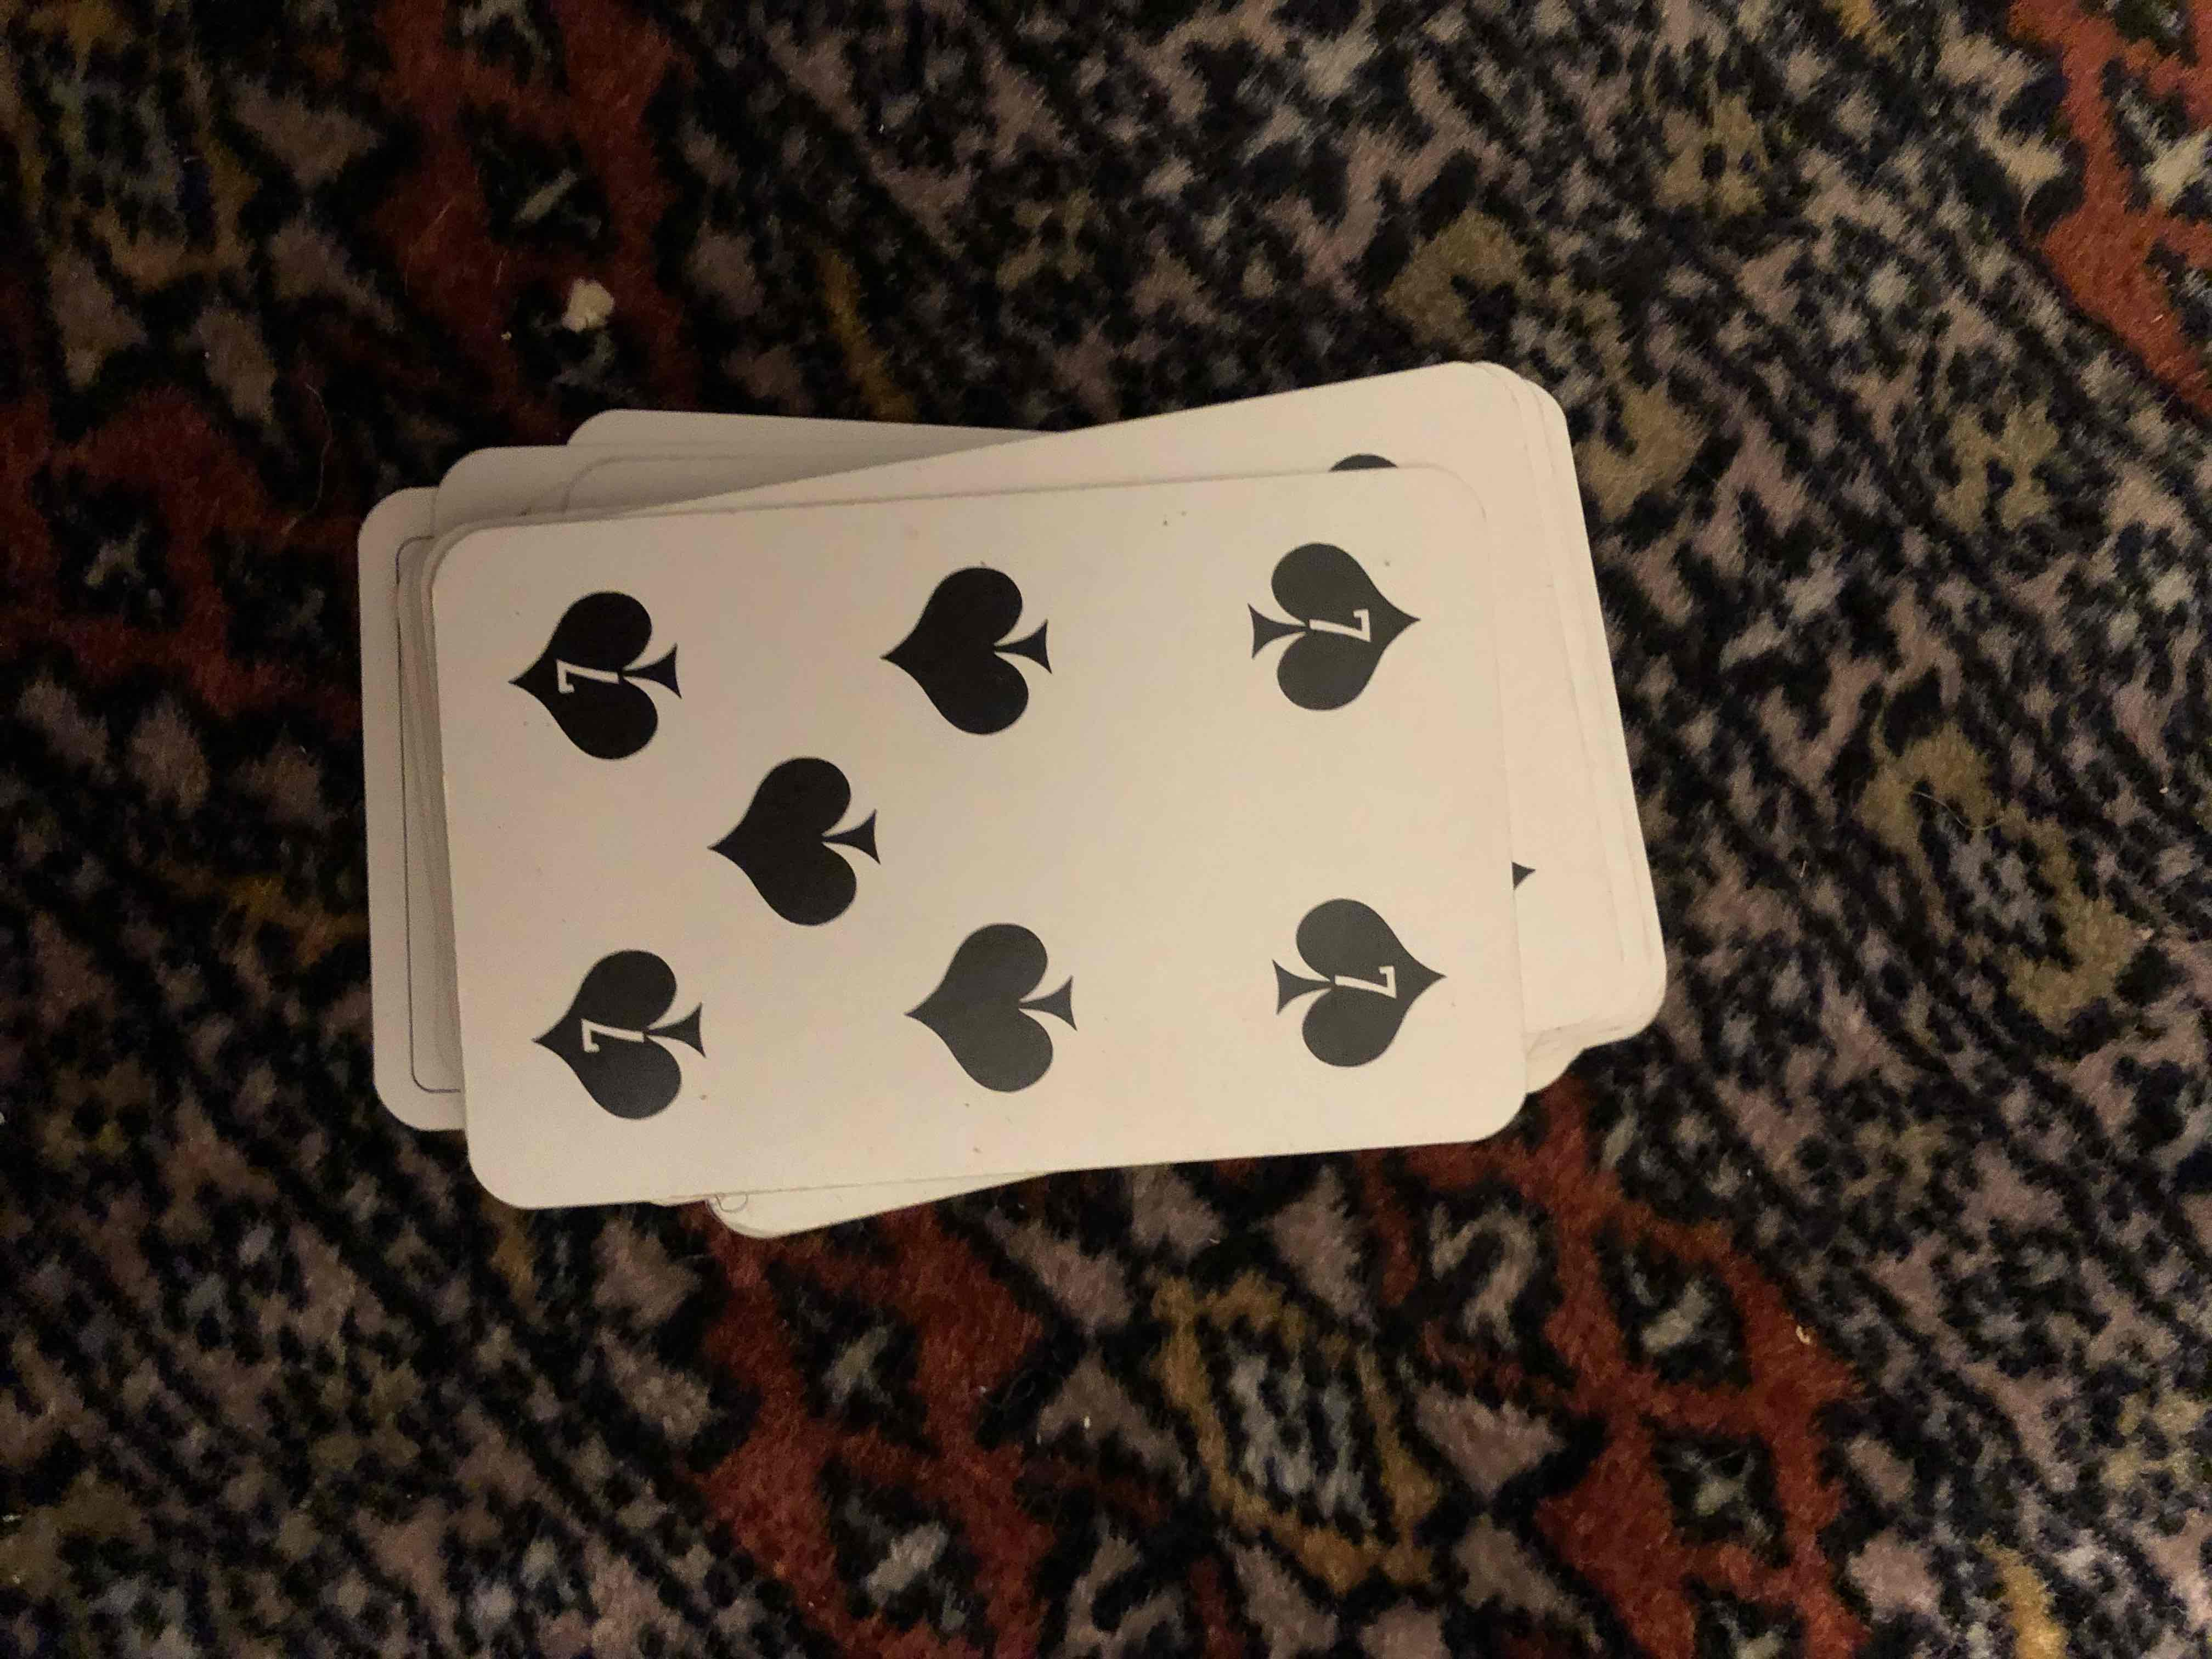spades7: (460, 500, 1527, 1150)
